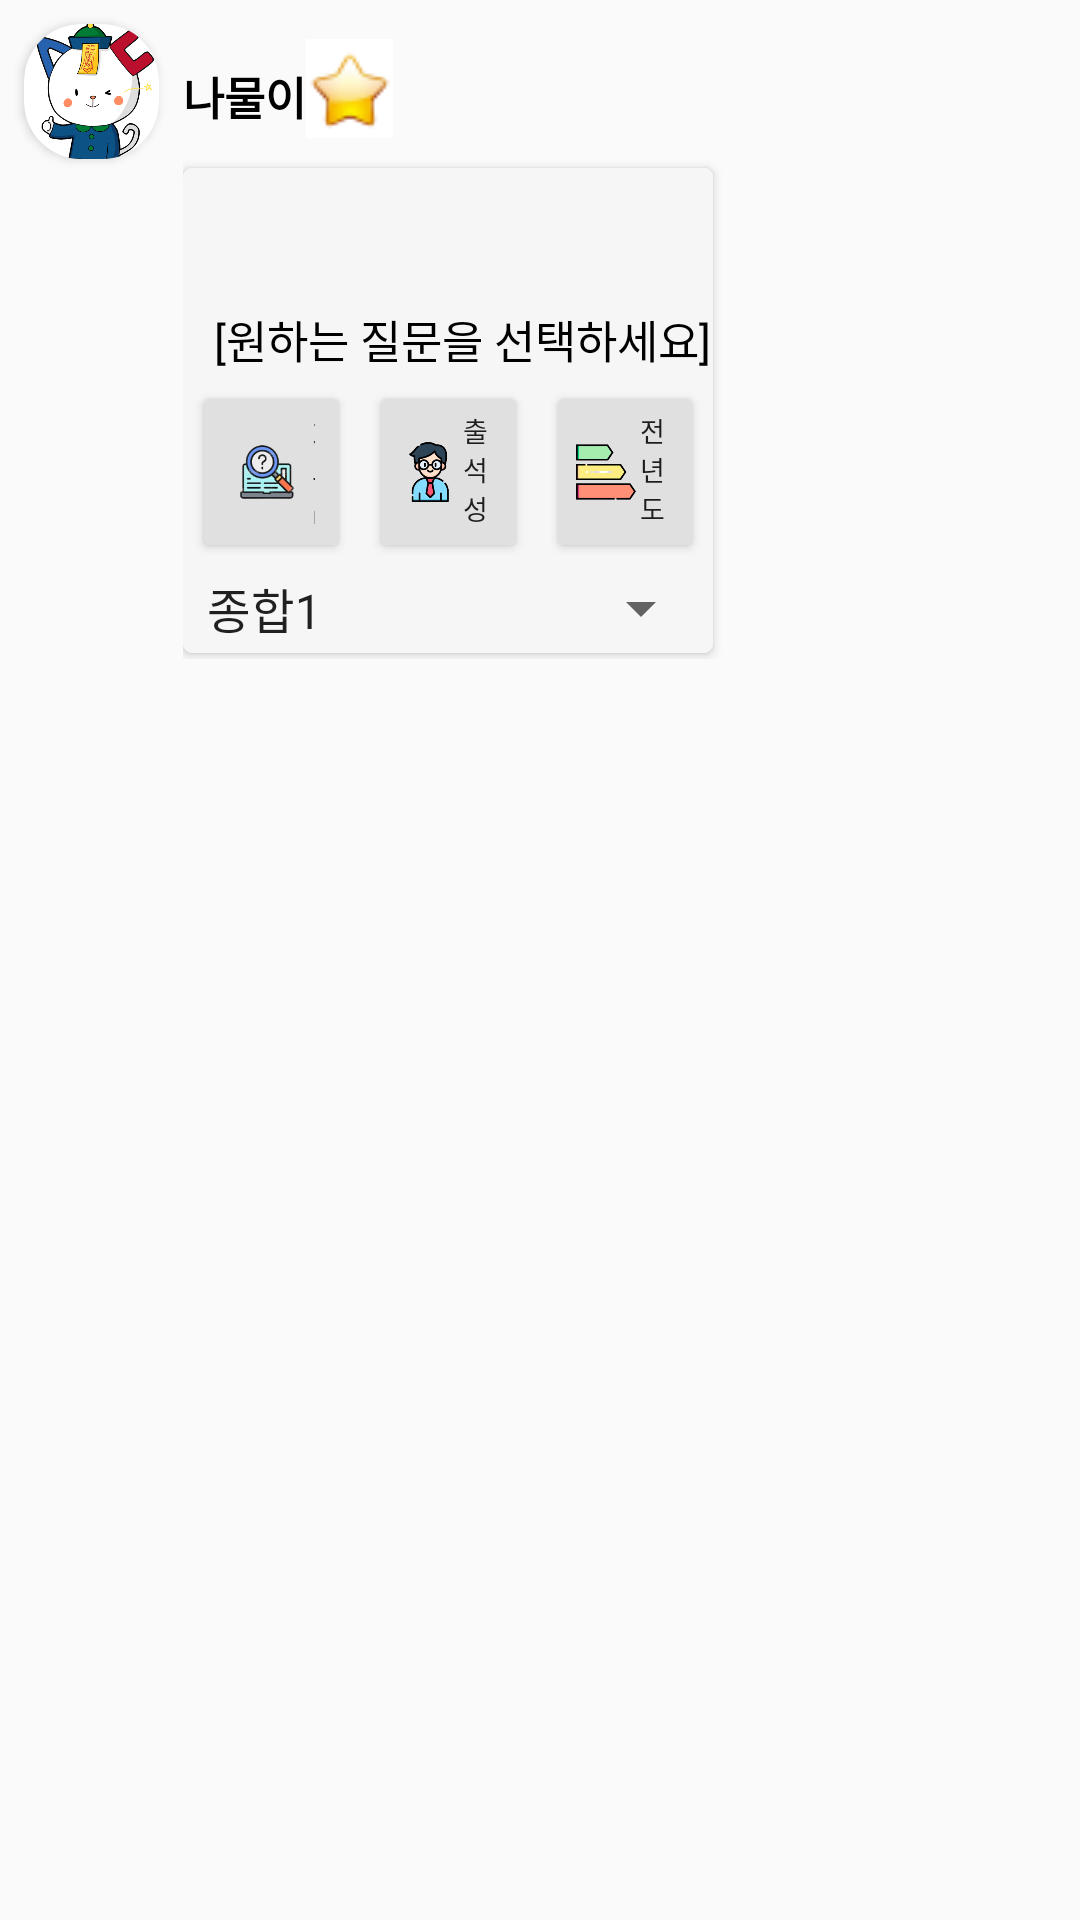

Locate icon controls on the screen. Image size 1080px×1920px, boxes as (x1, y1, x2, y2).
staron: (311, 54, 389, 127)
